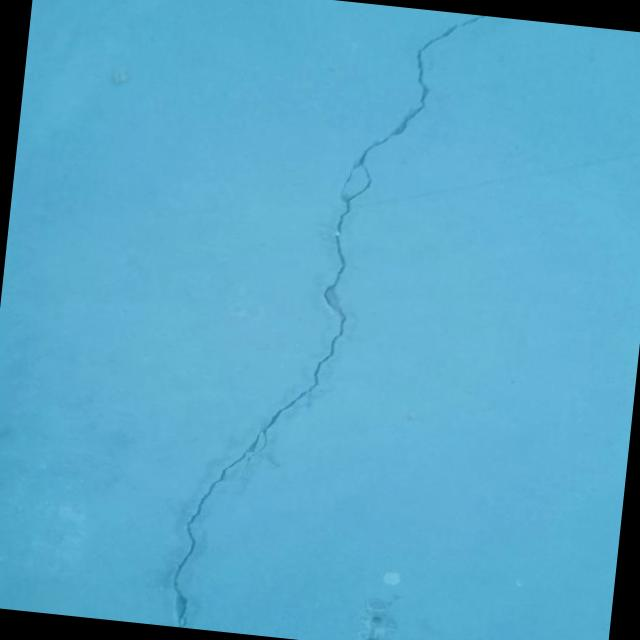crack: (166, 0, 487, 640)
